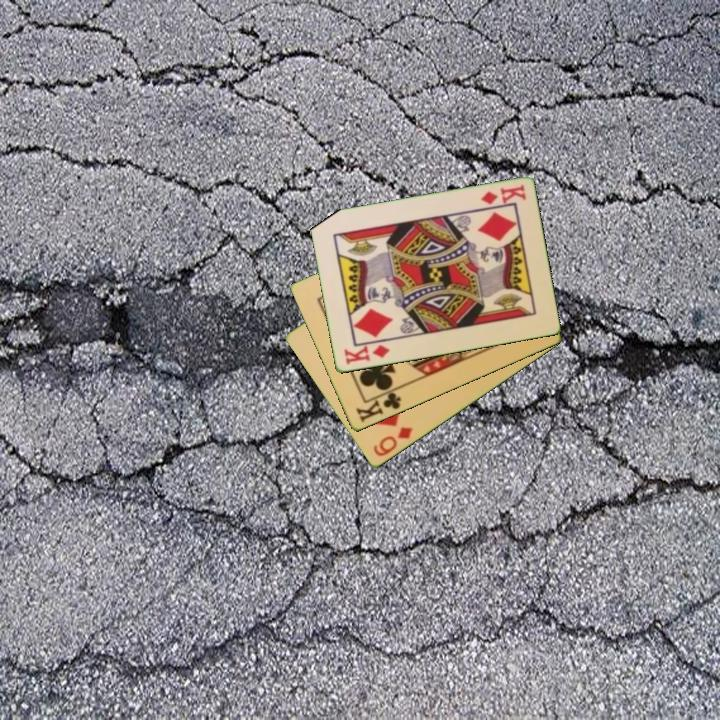6d: (370, 423, 416, 460)
Kc: (352, 385, 404, 426)
Kd: (340, 341, 392, 368), (477, 181, 529, 208)
